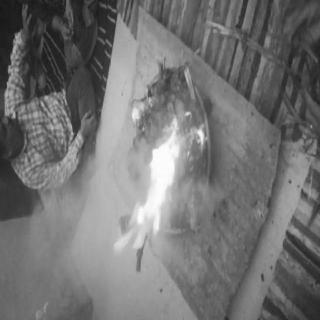Fire: (115, 112, 207, 256)
other: (130, 90, 158, 138)
